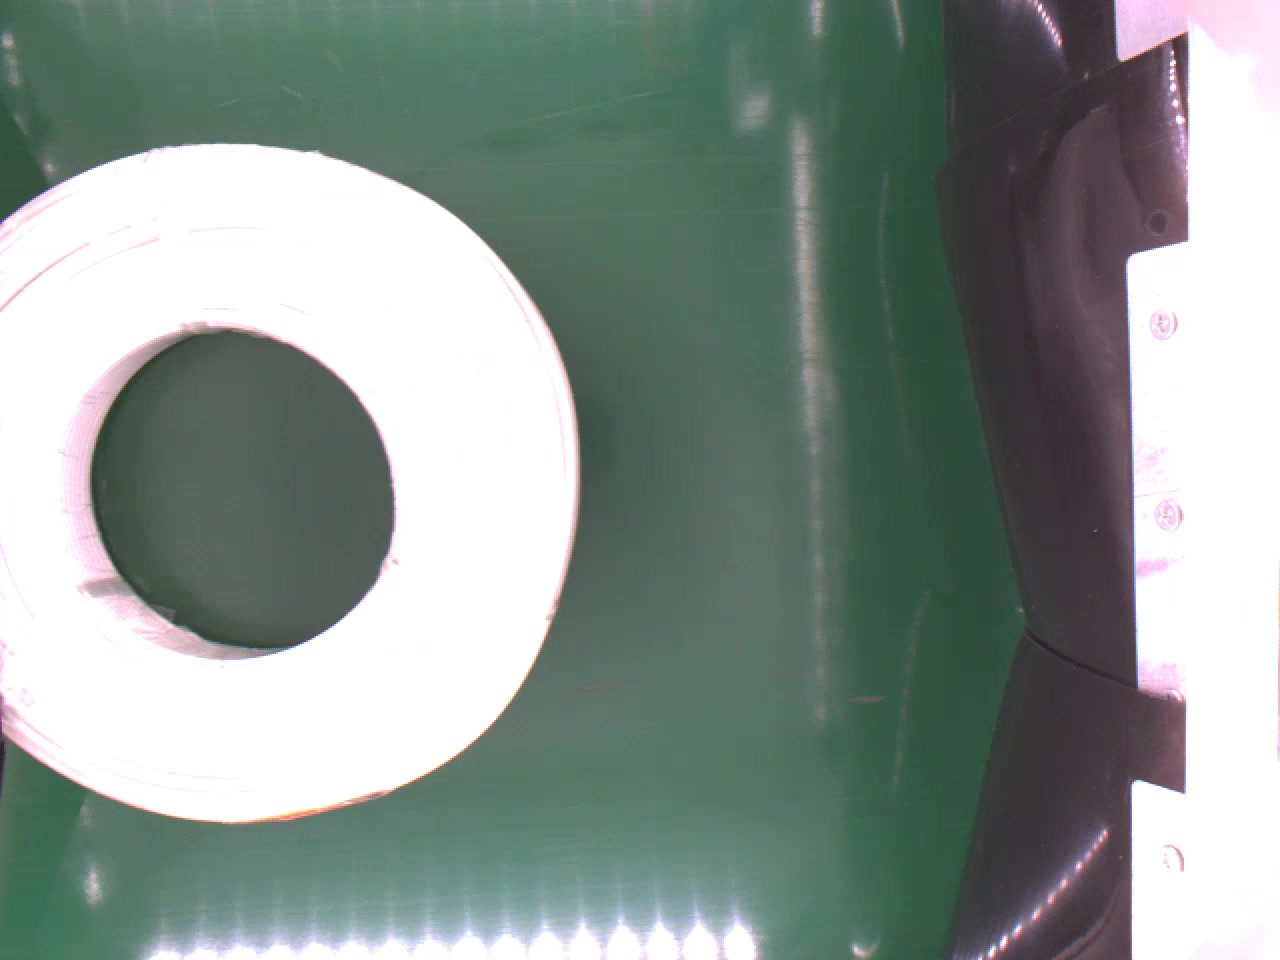white: (0, 139, 581, 824)
